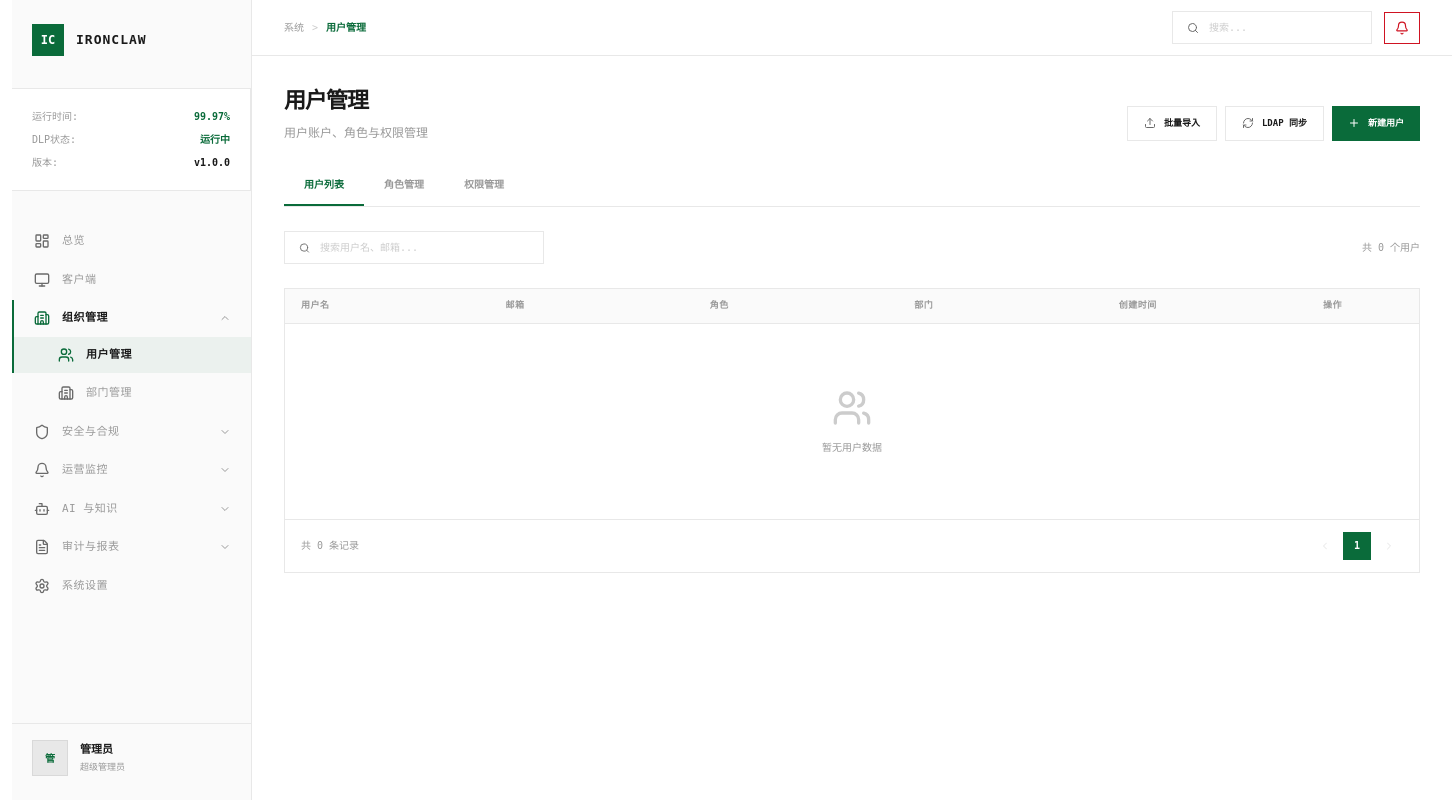
Test: 用户管理 › Tab 切换 › 切换回用户列表 Tab 应恢复
Step 1. Click the button "角色管理" → coordinates (404, 186), box [364,165,444,206]
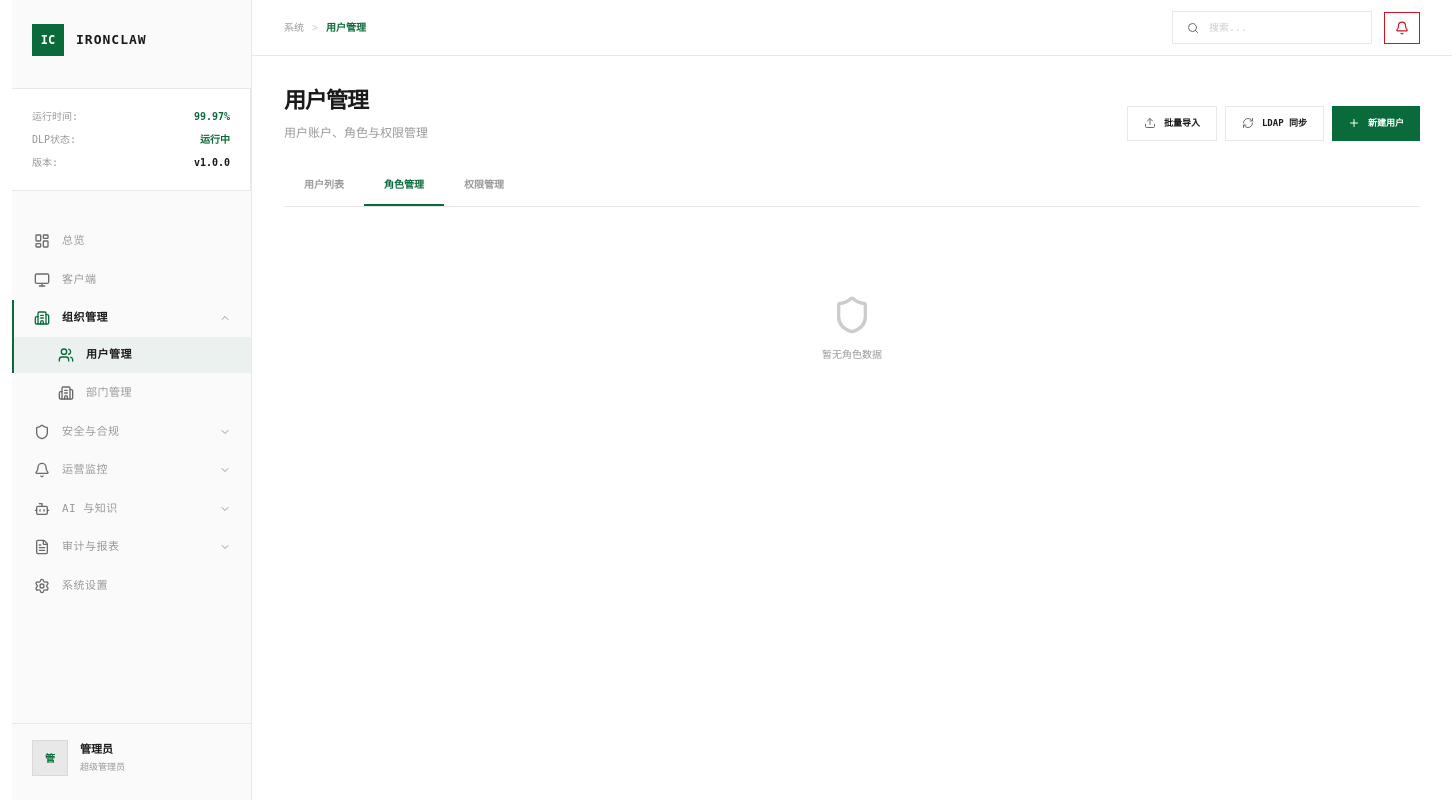
Step 2. Click the button "用户列表" → coordinates (324, 186), box [284,165,364,206]
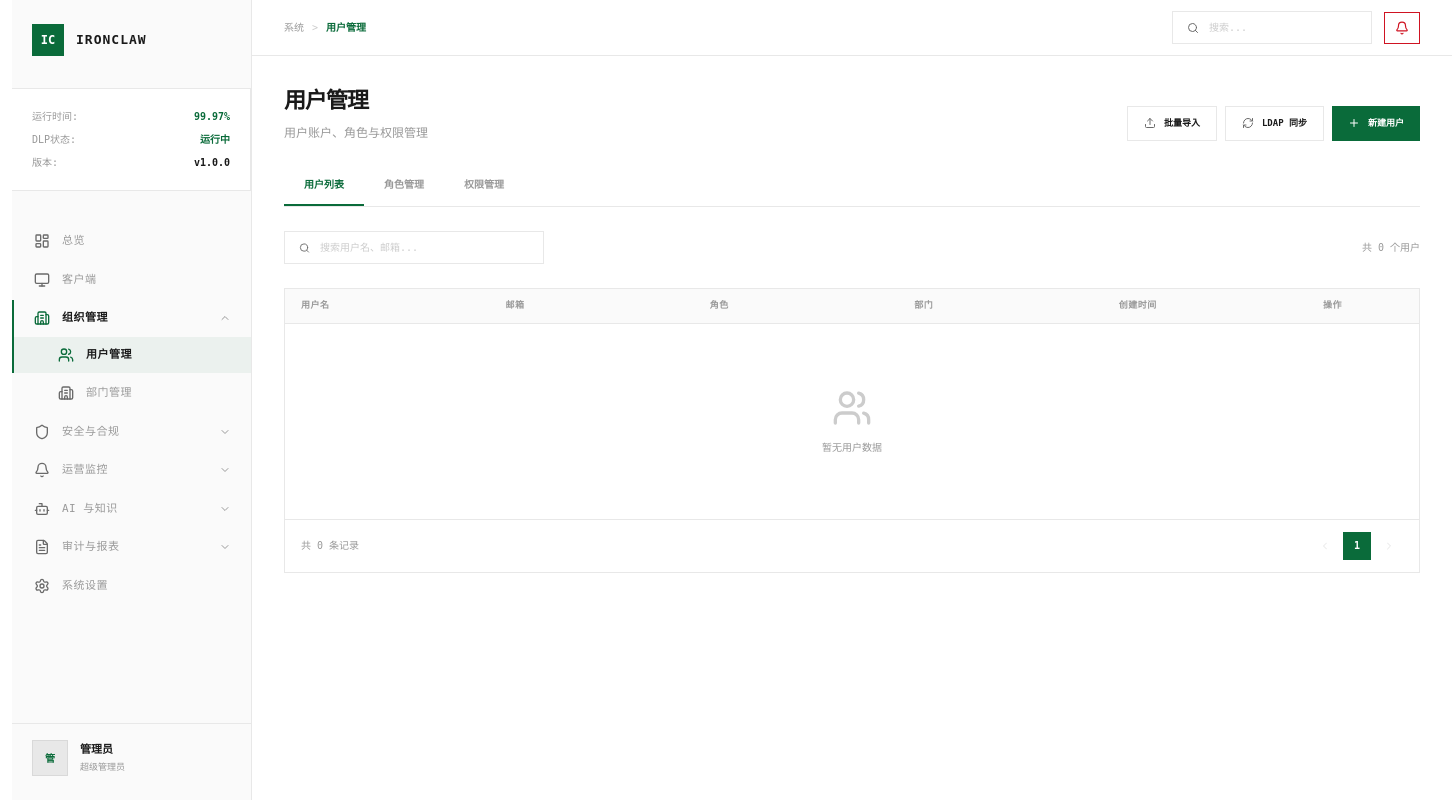
Check: the field with placeholder "搜索用户名、邮箱..." is shown, box [320,240,529,255]
